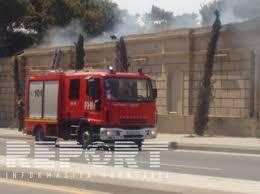Fire-engine: (20, 60, 157, 155)
